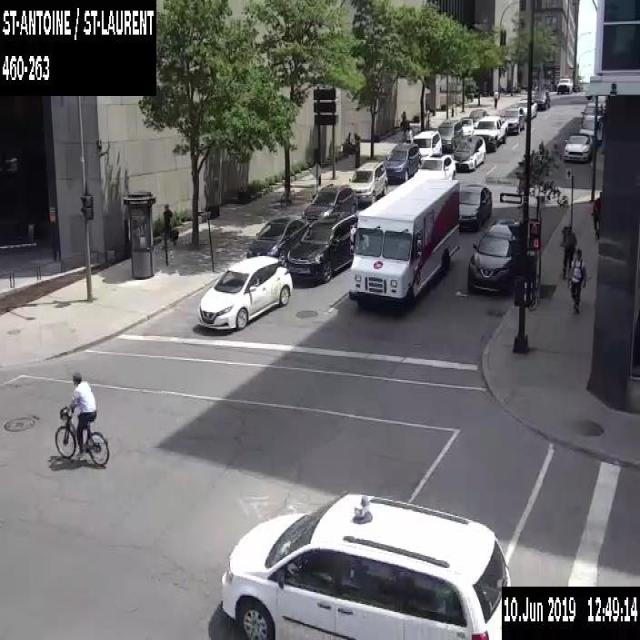cyclist: (54, 370, 108, 466)
pedestrian: (566, 247, 586, 314), (561, 224, 576, 278), (162, 202, 177, 247), (592, 189, 603, 236), (400, 110, 406, 136), (492, 86, 498, 110), (405, 127, 411, 141)
vehicle: (217, 489, 512, 639), (348, 176, 459, 311), (196, 254, 292, 329), (286, 211, 357, 281), (467, 218, 522, 296), (246, 216, 308, 266), (301, 184, 357, 226), (348, 160, 387, 203), (458, 183, 491, 230), (384, 142, 421, 181), (472, 114, 508, 150), (451, 134, 485, 169), (413, 152, 455, 179), (411, 129, 441, 160), (562, 132, 592, 161), (437, 119, 462, 151), (578, 113, 602, 143), (500, 106, 524, 133), (512, 98, 536, 118), (580, 101, 602, 122), (530, 90, 550, 110), (468, 108, 488, 127), (591, 94, 607, 112), (460, 116, 474, 136), (556, 77, 572, 93)
